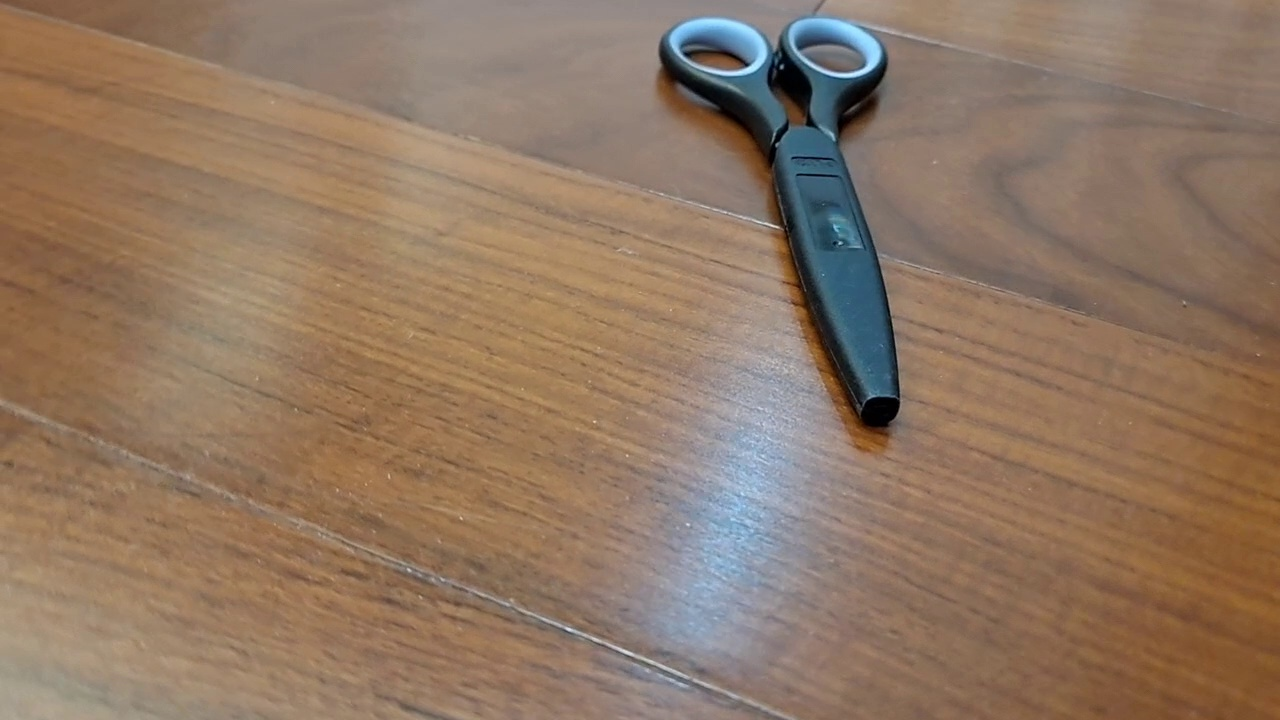scissors: (658, 13, 901, 429)
